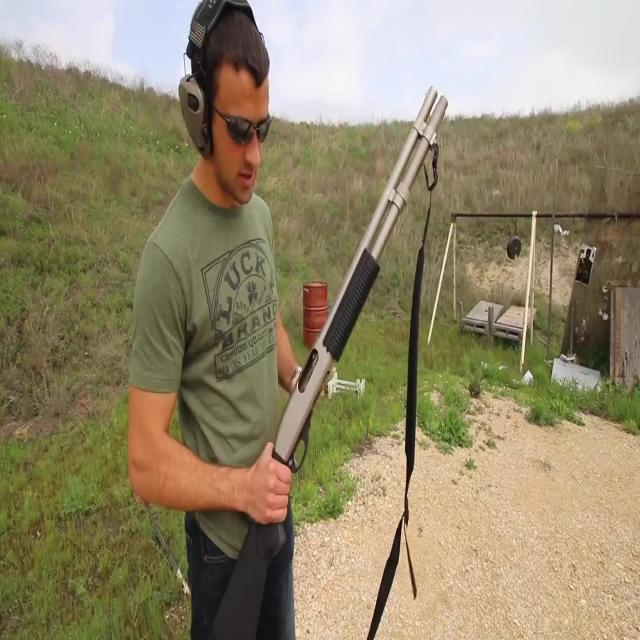Weapon: (201, 82, 457, 638)
